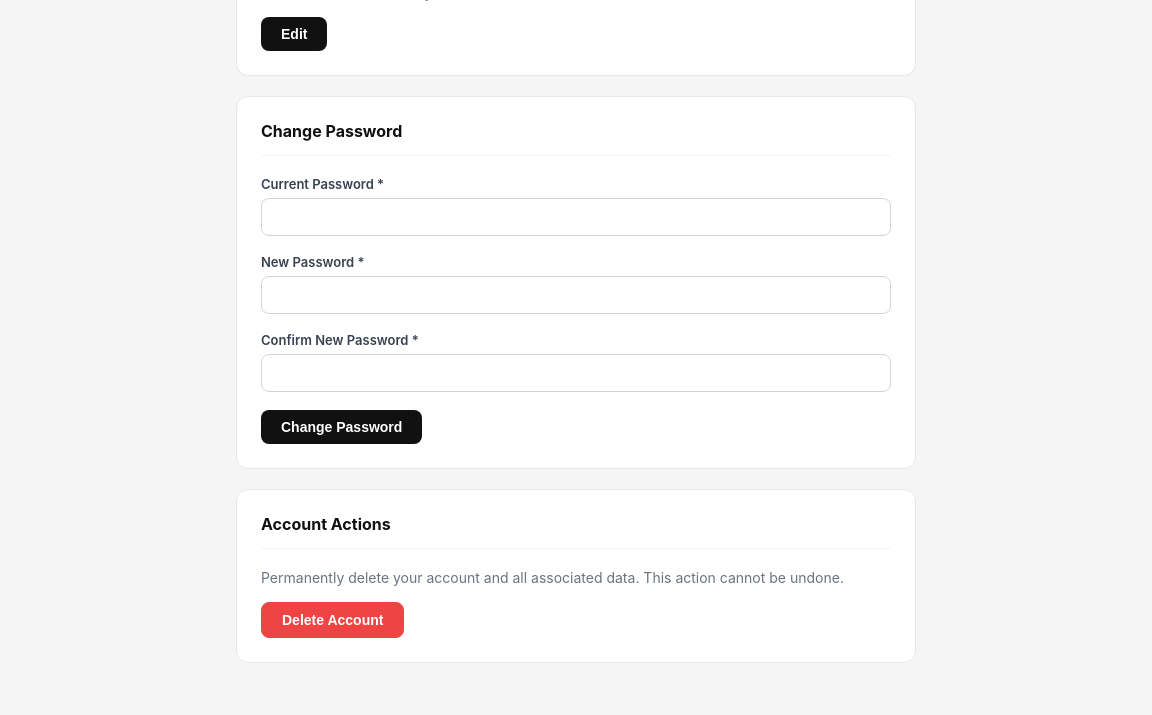
Test: EmployerProfilePage › opens delete account confirmation modal
(page scrolled)
Click the button "Delete Account".
click(333, 620)  # box [261,602,404,638]
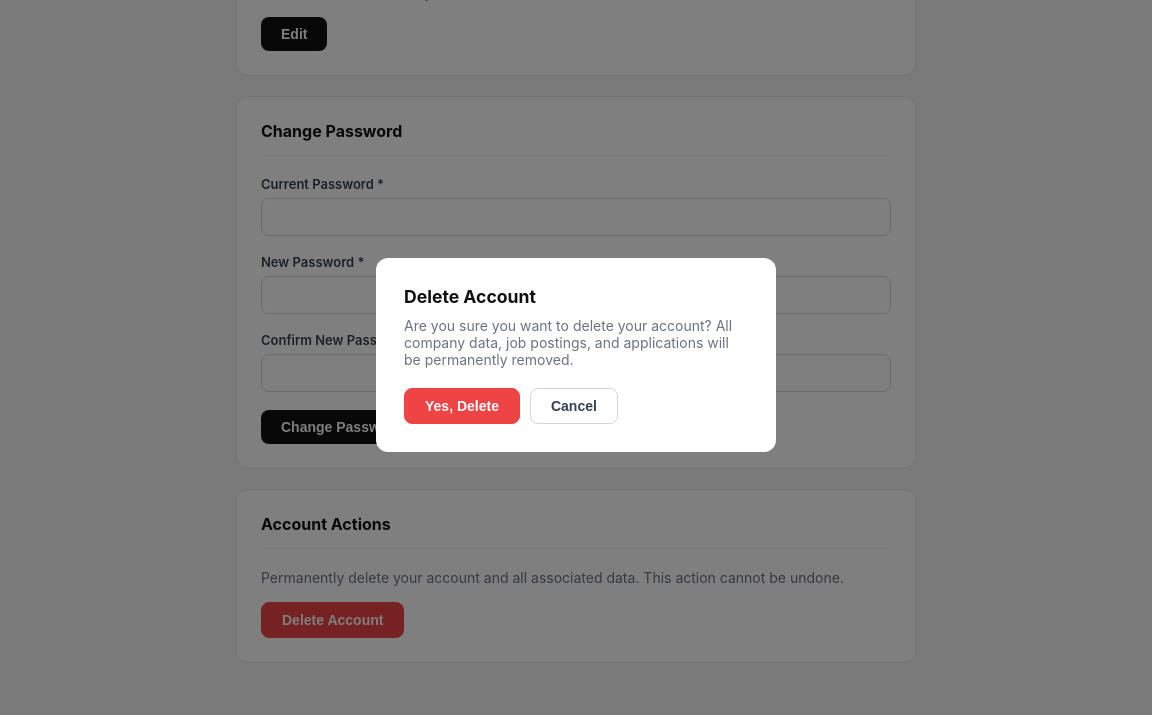
expect the text "Are you sure you want to delete your account" is shown: met, box [404,317,732,368]
